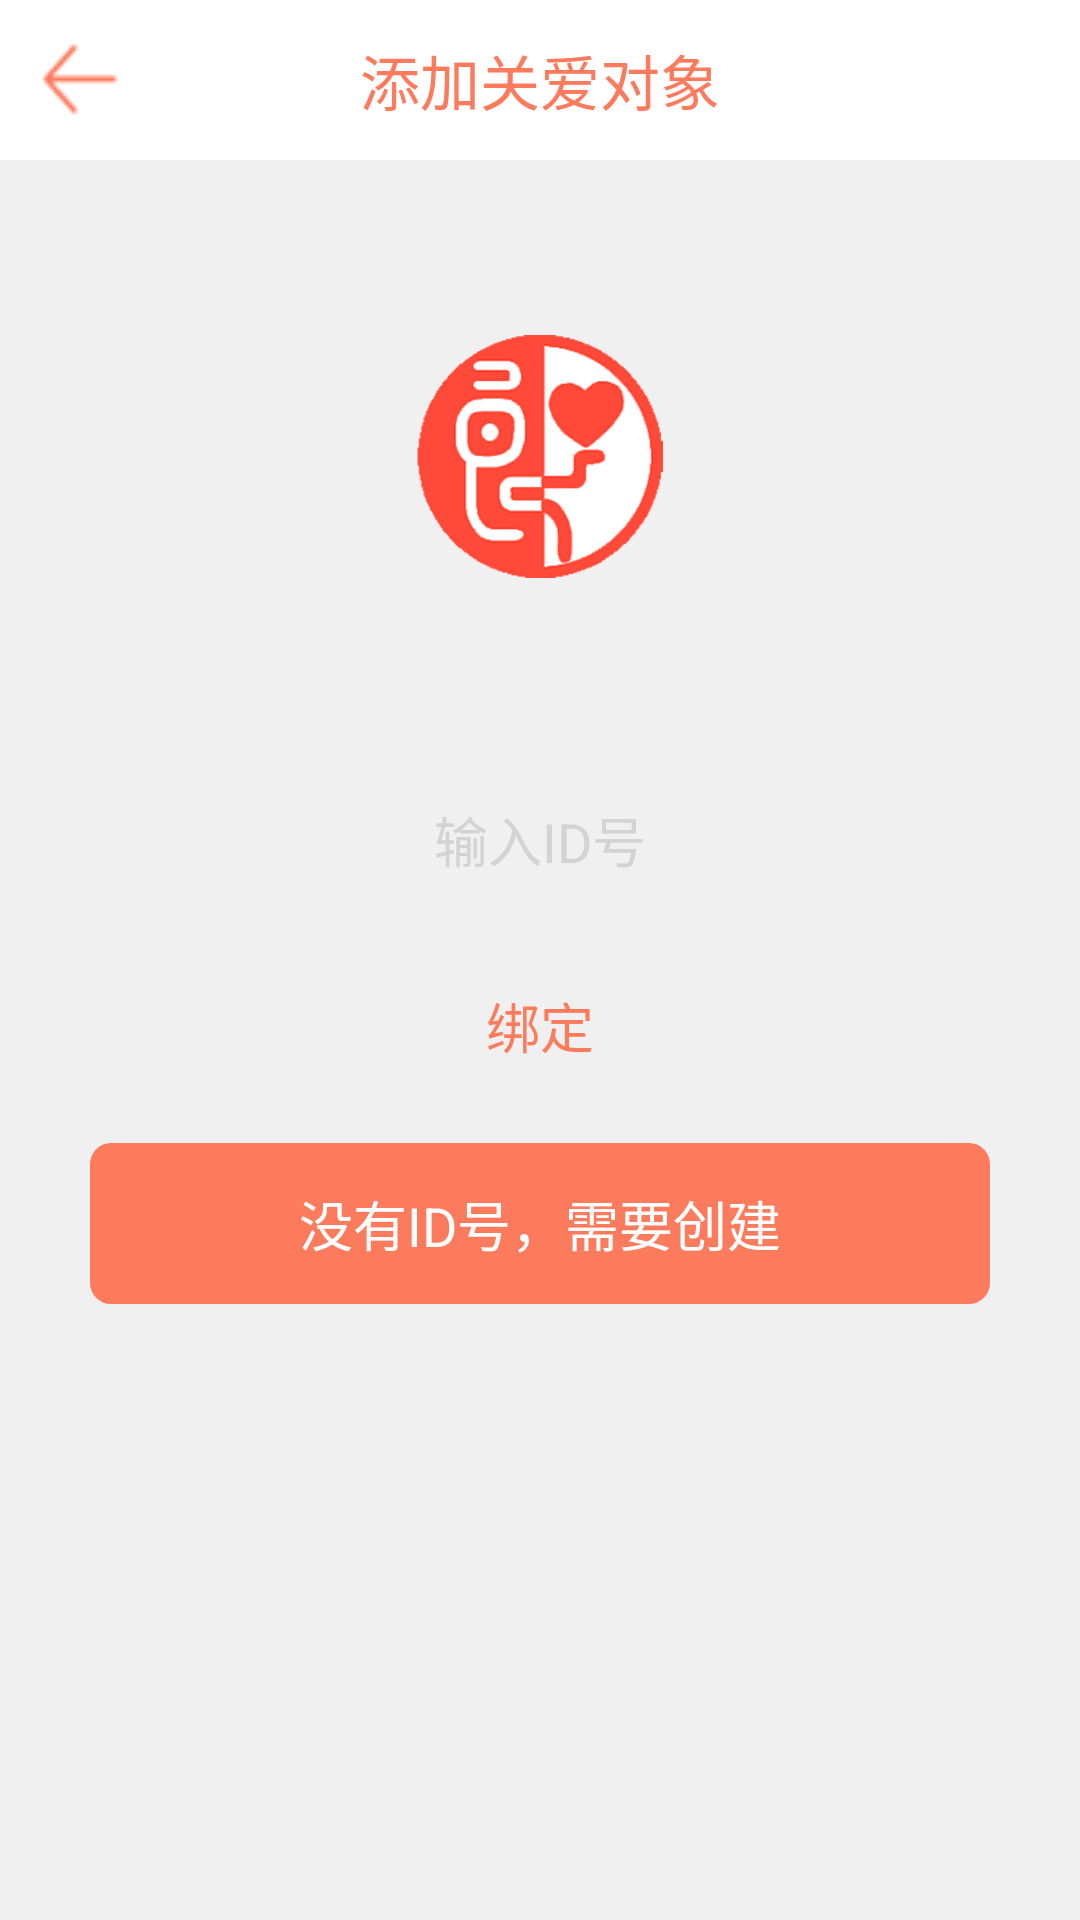

Screen size 1080 x 1920. Icon name, then its center in pixels as (x=x, y=y):
zuo: (x=80, y=79)
